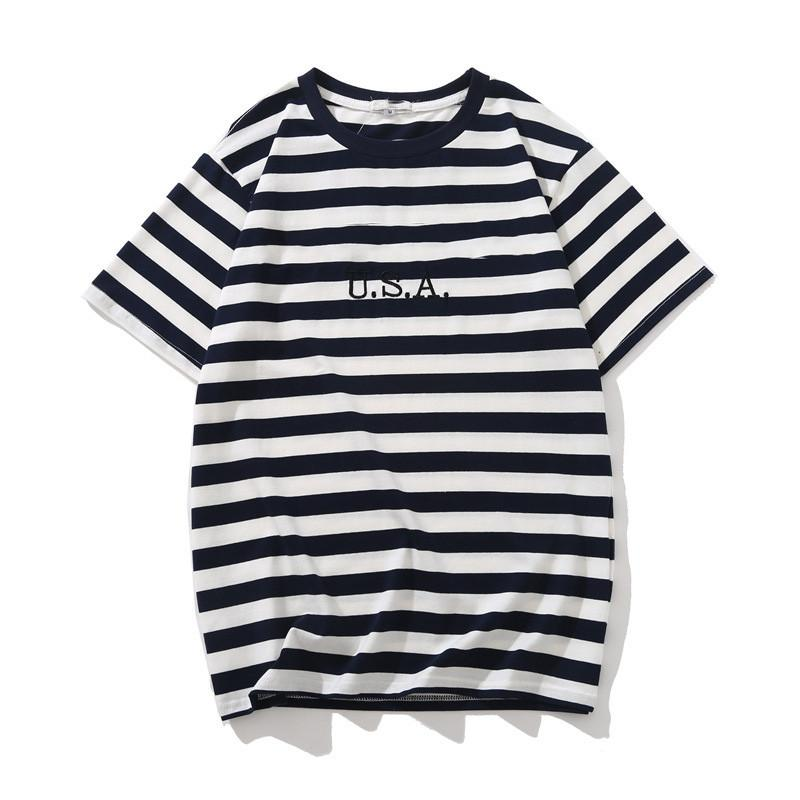striped: (87, 63, 714, 731)
